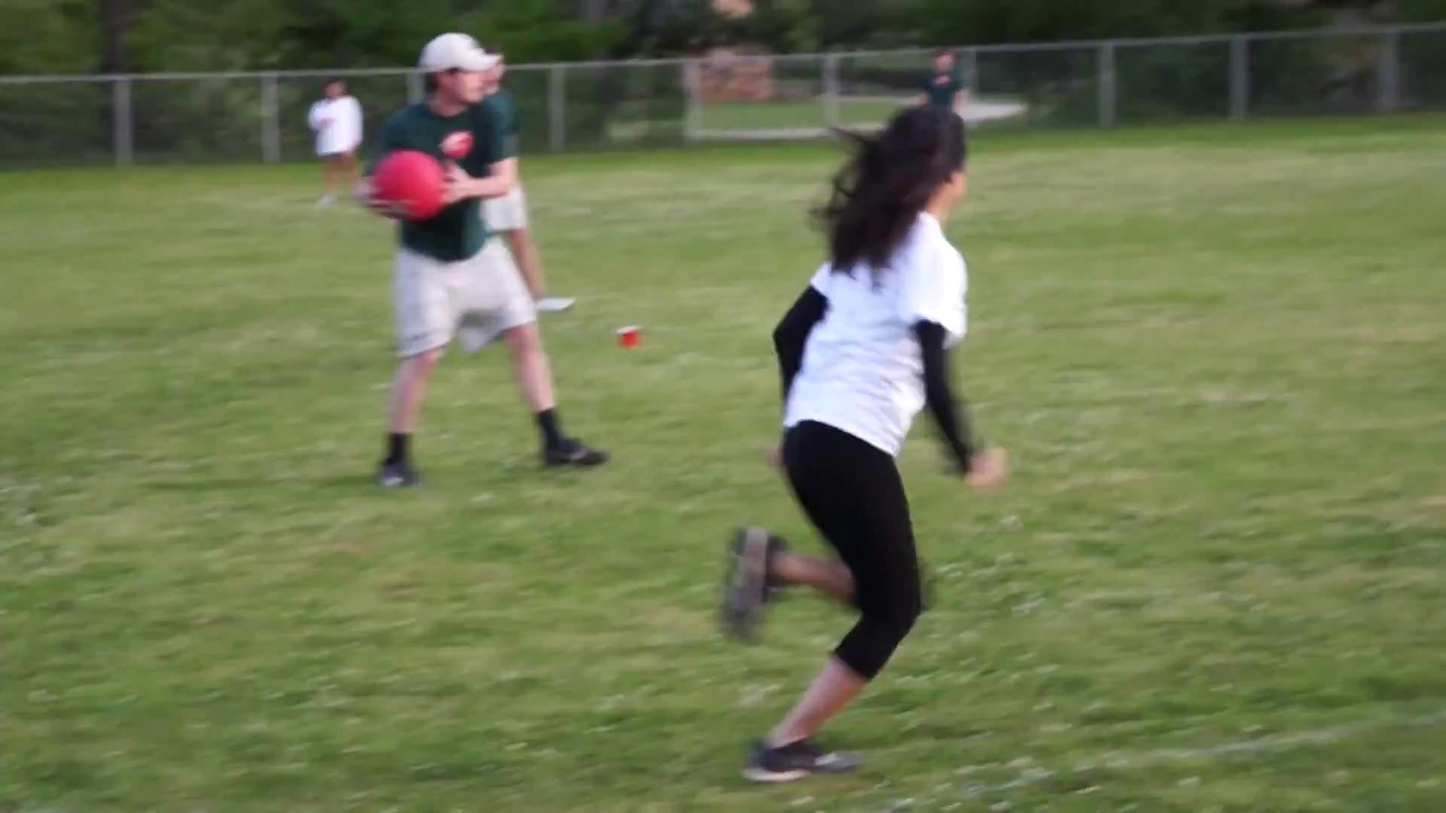victim: (699, 100, 1011, 787), (370, 30, 626, 505), (300, 69, 391, 214), (917, 48, 976, 141)
